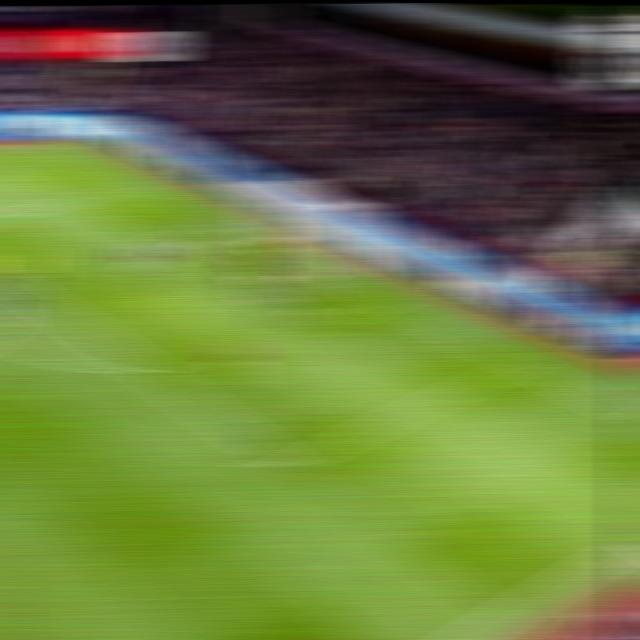bigarea_bottom_inner: (270, 453, 309, 477)
bigarea_bottom_outter: (502, 357, 538, 370)
bigarea_top_outter: (121, 178, 153, 189)
bottom_arc_area_intersection: (130, 361, 168, 379)
corner: (32, 140, 68, 148)
smallarea_bottom_inner: (304, 317, 340, 330)
smallarea_bottom_outter: (366, 293, 403, 309)
smallarea_top_inner: (141, 236, 176, 250)
smallarea_top_outter: (198, 216, 233, 229)
